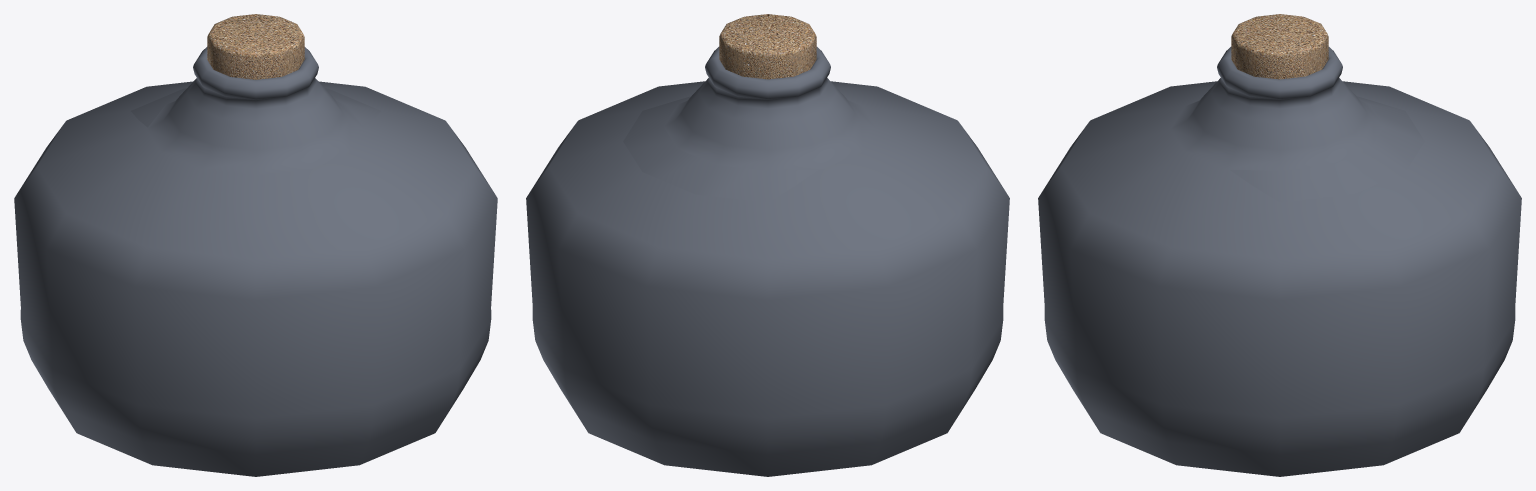
The model's file is GlasFrosch_Mesh.fbx.
3 views of the same model, side by side, from view 1: azimuth 30°, elevation 25°; view 2: azimuth 150°, elevation 25°; view 3: azimuth 270°, elevation 25° (orthographic).
Visible parts, largest first — view 1: FrogGlas, KorkenFrog; view 2: FrogGlas, KorkenFrog; view 3: FrogGlas, KorkenFrog.
Part boxes in pixels (x1,y1,x2,y2): FrogGlas: (14,47,497,476); KorkenFrog: (207,14,304,79); FrogGlas: (526,47,1009,476); KorkenFrog: (719,14,816,79); FrogGlas: (1038,47,1521,476); KorkenFrog: (1231,14,1328,79).
Size of the model in its own units: 24.12 by 19.6 by 24.12.
